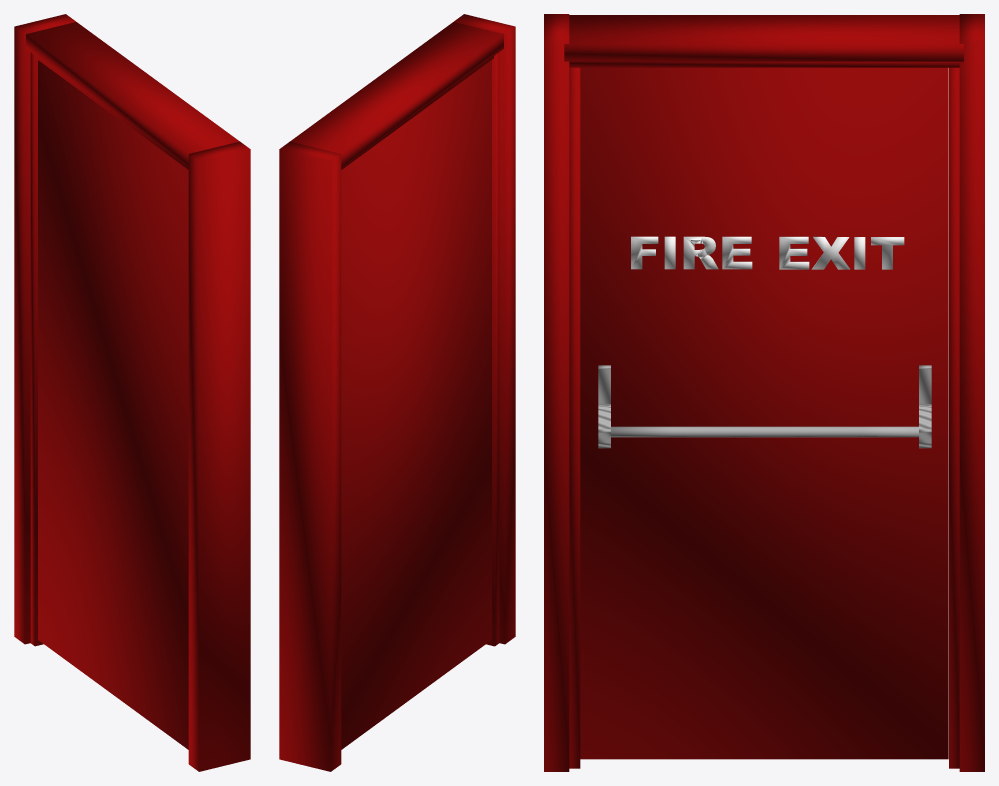
The model's file is fire.glb.
3 renders of one model, left to right at view 1: azimuth 30°, elevation 25°; view 2: azimuth 150°, elevation 25°; view 3: azimuth 270°, elevation 25°, orthographic. The views are drawn at different scales.
Parts seen in each view (by area): view 1: Object_2, Object_3; view 2: Object_2, Object_3; view 3: Object_2, Object_3, Object_6, Object_5, Object_4.
Part boxes in pixels (x1=…): Object_2: x1=38, y1=60, x2=188, y2=749; Object_3: x1=14, y1=14, x2=250, y2=771; Object_2: x1=341, y1=60, x2=491, y2=749; Object_3: x1=279, y1=14, x2=515, y2=771; Object_2: x1=580, y1=67, x2=948, y2=759; Object_3: x1=544, y1=14, x2=984, y2=771; Object_6: x1=631, y1=236, x2=904, y2=269; Object_5: x1=611, y1=426, x2=918, y2=437; Object_4: x1=598, y1=365, x2=931, y2=448.
Bounding box in the file's own units: 2.68 × 22.04 × 12.09.
